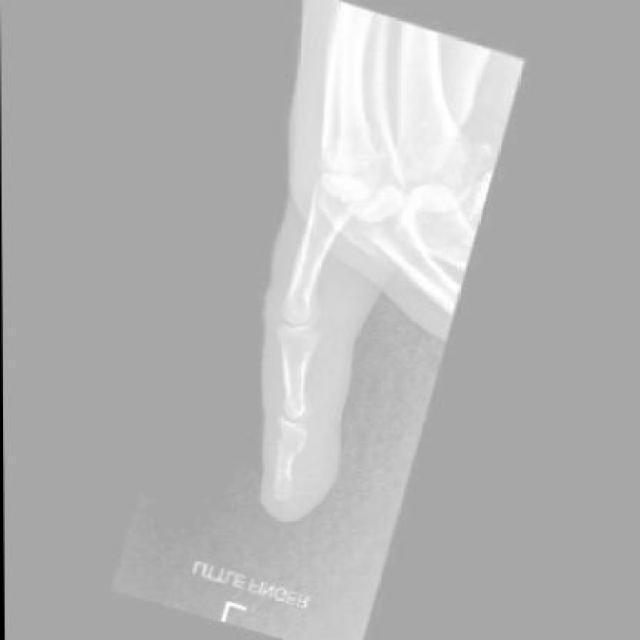Fracture: (269, 434, 308, 468)
